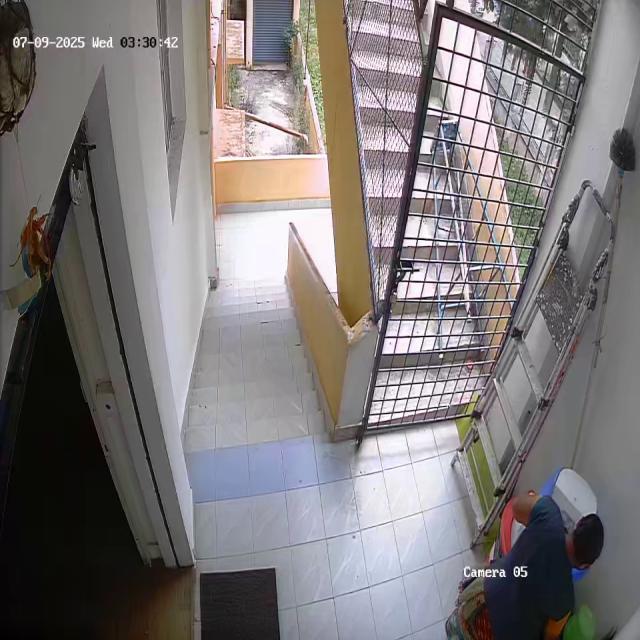person: (454, 485, 604, 640)
